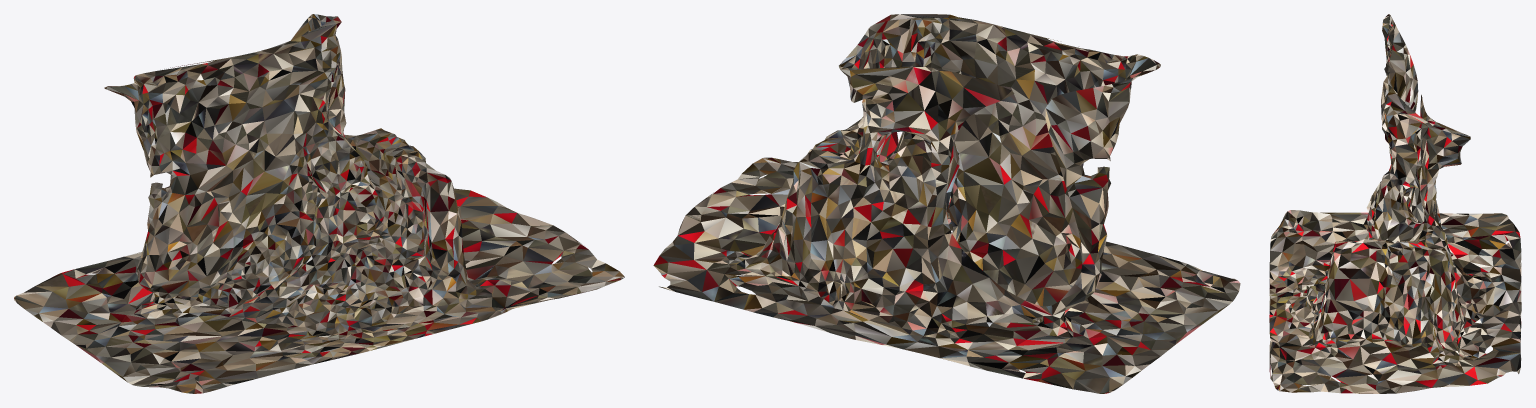
The model's file is plastic2.obj.
3 renders of one model, left to right at view 1: azimuth 30°, elevation 25°; view 2: azimuth 150°, elevation 25°; view 3: azimuth 270°, elevation 25°, orthographic. The views are drawn at different scales.
Visible parts, largest first — view 1: Default.1; view 2: Default.1; view 3: Default.1.
Part boxes in pixels (box(x1,y1,x2,y2)): Default.1: box(14, 14, 624, 393); Default.1: box(653, 14, 1240, 393); Default.1: box(1269, 14, 1521, 393).
Size of the model in its own units: 281 by 147 by 160.
